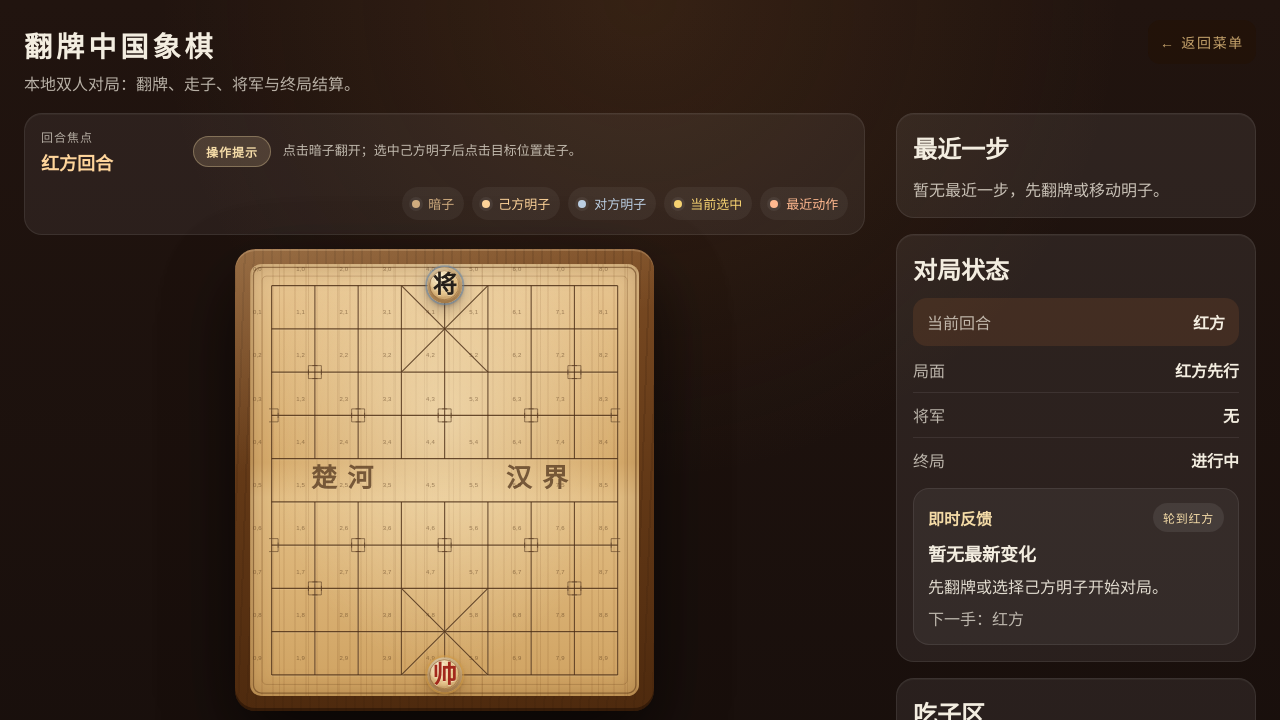
Test: interaction feedback › shows guidance when clicking an empty cell without a selected piece
The width and height of the screenshot is (1280, 720).
Step 1. Click the button with test id "cell-0-0" → click(272, 285), box left=250, top=264, right=293, bottom=307
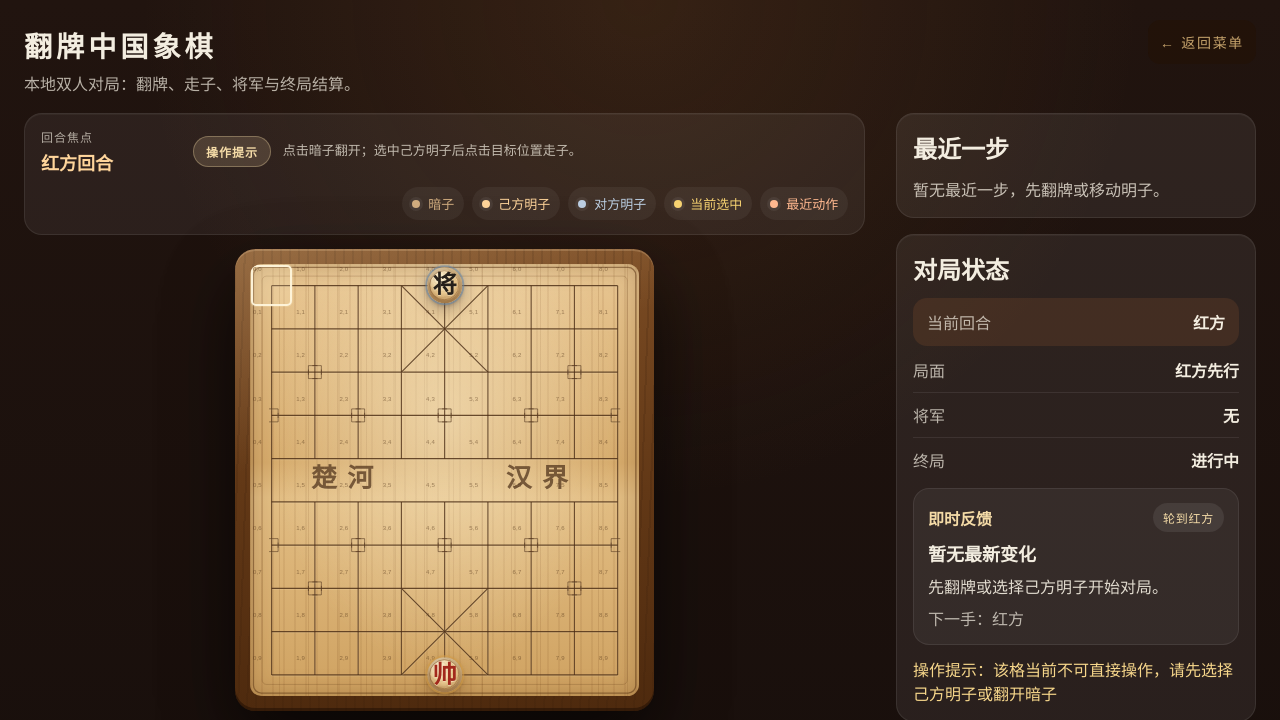
Result: the text "操作提示：该格当前不可直接操作，请先选择己方明子或翻开暗子" is shown at left=913, top=657, right=1239, bottom=705
